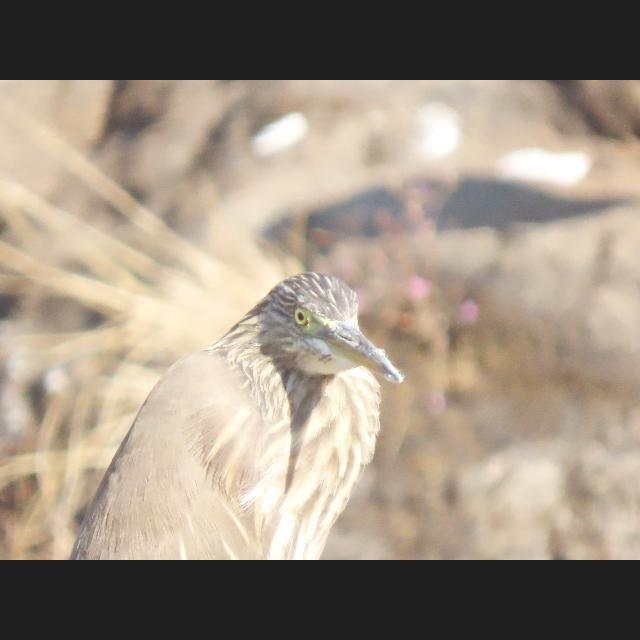heron: (64, 268, 406, 560)
